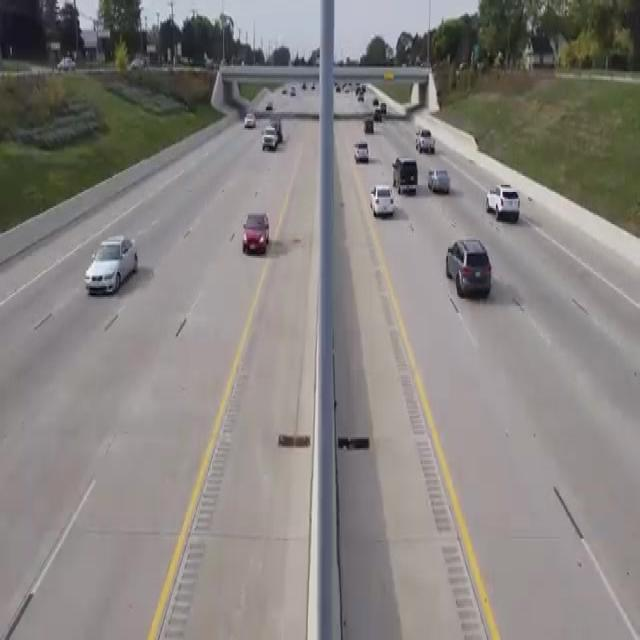car: (442, 234, 500, 309), (81, 235, 142, 298), (476, 182, 530, 222), (235, 202, 275, 256), (392, 155, 426, 197), (369, 182, 404, 222), (426, 164, 454, 202), (346, 135, 376, 169), (265, 115, 288, 157), (240, 105, 262, 135), (261, 87, 279, 120), (358, 116, 386, 136), (369, 103, 390, 126)
truck: (412, 130, 444, 152)
